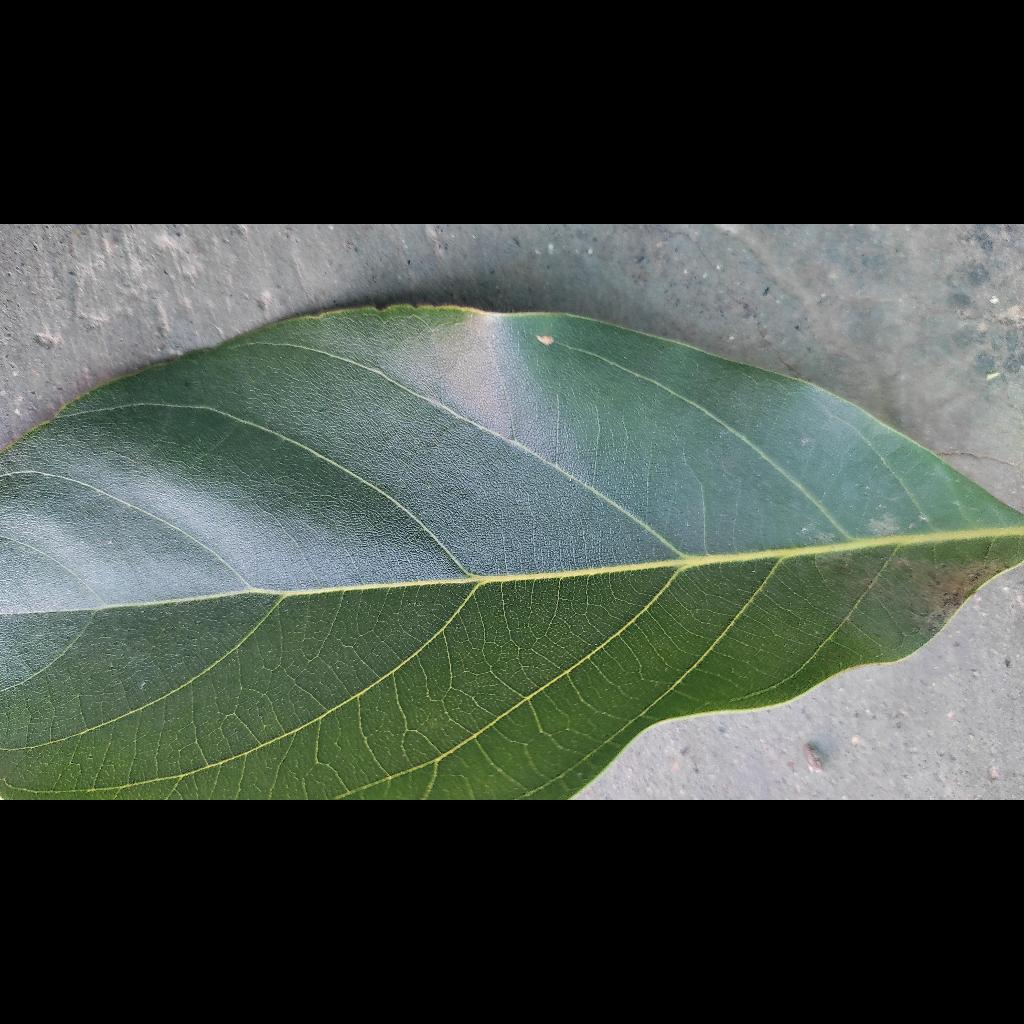persea_mite: (893, 535, 1024, 659), (518, 320, 566, 358)
